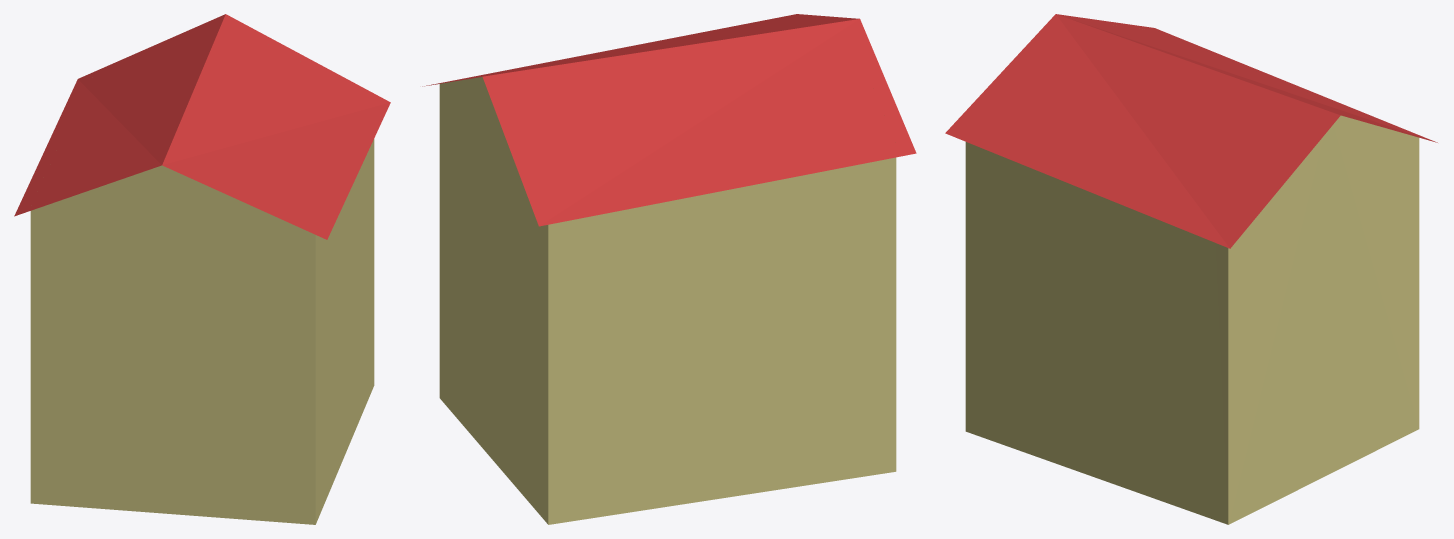
3 views of the same model, side by side, from view 1: azimuth 30°, elevation 25°; view 2: azimuth 150°, elevation 25°; view 3: azimuth 270°, elevation 25° (orthographic). The views are drawn at different scales.
Bounding box in the file's own units: 8.37 × 8.47 × 6.85.
